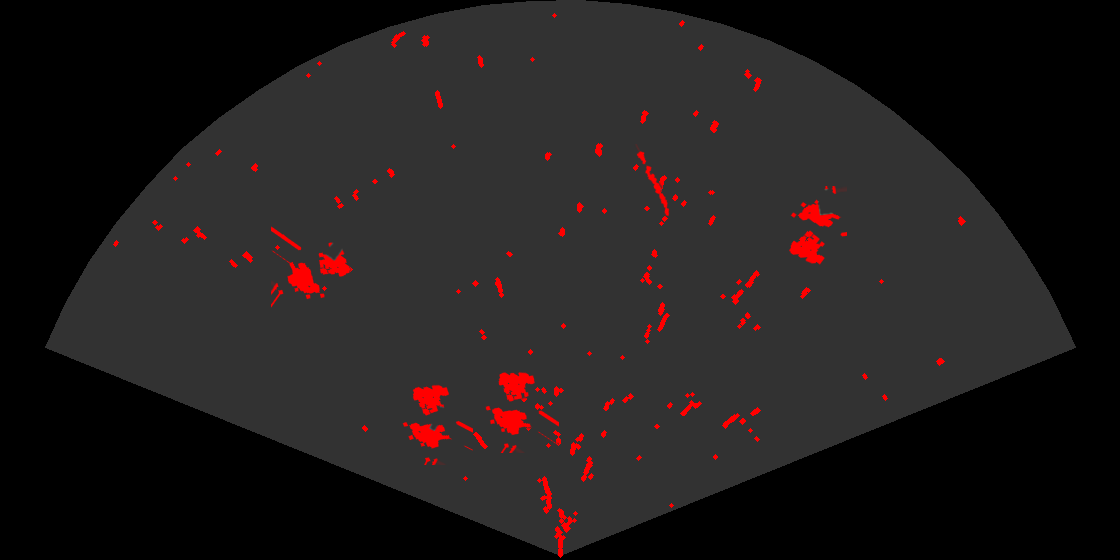cage: (271, 225, 352, 309), (484, 370, 559, 453), (401, 383, 473, 465), (788, 186, 847, 266)
chain: (634, 144, 671, 218)
